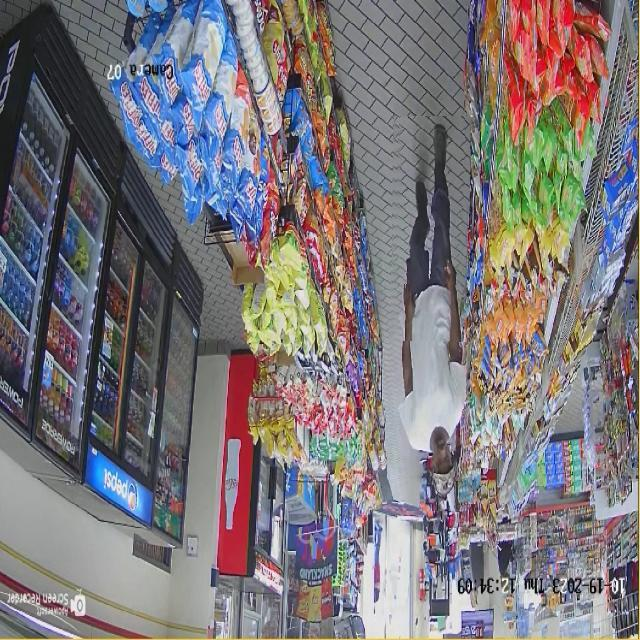Normal: (388, 116, 470, 511)
